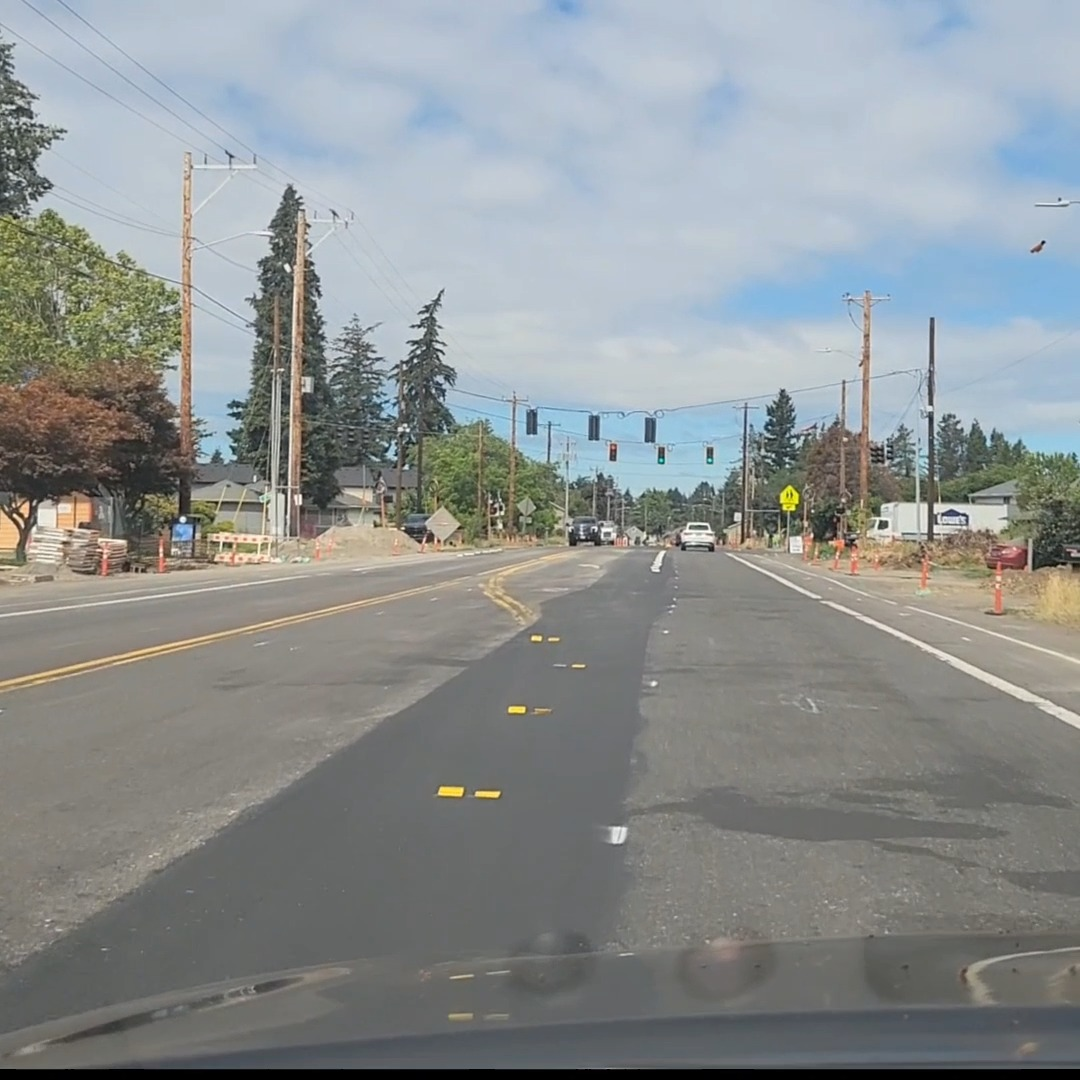car: (675, 522, 714, 551), (567, 516, 600, 547), (815, 524, 858, 547), (400, 513, 433, 541), (595, 520, 617, 545)
crosswalk-sign: (779, 484, 799, 511)
delineator: (983, 562, 1006, 615), (913, 551, 931, 595), (848, 542, 859, 575), (832, 539, 842, 571), (99, 544, 109, 575), (157, 536, 164, 571), (818, 540, 830, 560), (802, 534, 811, 560), (390, 535, 402, 554), (871, 543, 880, 568), (418, 533, 427, 552), (229, 548, 238, 565), (314, 538, 321, 559), (327, 534, 334, 550)
